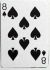eight: (1, 1, 49, 68)
